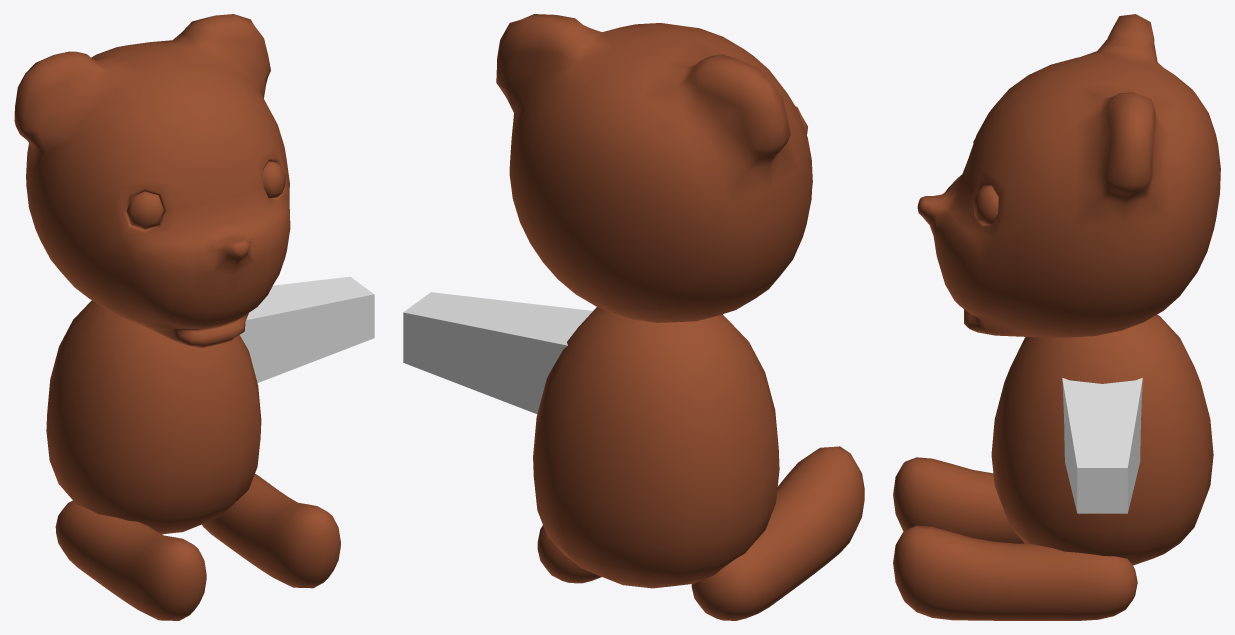
File: bair.fbx
3 renders of one model, left to right at view 1: azimuth 30°, elevation 25°; view 2: azimuth 150°, elevation 25°; view 3: azimuth 270°, elevation 25°, orthographic. The views are drawn at different scales.
Parts seen in each view (by area): view 1: head, body, leftLeg, 立方体, rightLeg; view 2: head, body, 立方体, leftLeg, rightLeg; view 3: head, body, rightLeg, 立方体, leftLeg.
Boxes of the visible parts, x1=… form: head: x1=14, y1=14, x2=290, y2=347; body: x1=46, y1=300, x2=261, y2=534; leftLeg: x1=55, y1=500, x2=206, y2=620; 立方体: x1=240, y1=276, x2=374, y2=382; rightLeg: x1=202, y1=474, x2=340, y2=588; head: x1=496, y1=14, x2=812, y2=322; body: x1=533, y1=307, x2=779, y2=588; 立方体: x1=403, y1=292, x2=592, y2=413; leftLeg: x1=691, y1=446, x2=864, y2=620; rightLeg: x1=537, y1=525, x2=601, y2=583; head: x1=917, y1=14, x2=1220, y2=337; body: x1=991, y1=314, x2=1213, y2=565; rightLeg: x1=893, y1=525, x2=1137, y2=620; 立方体: x1=1062, y1=377, x2=1142, y2=513; leftLeg: x1=893, y1=457, x2=1025, y2=543.
Size of the model in its own units: 248 by 356 by 203.
